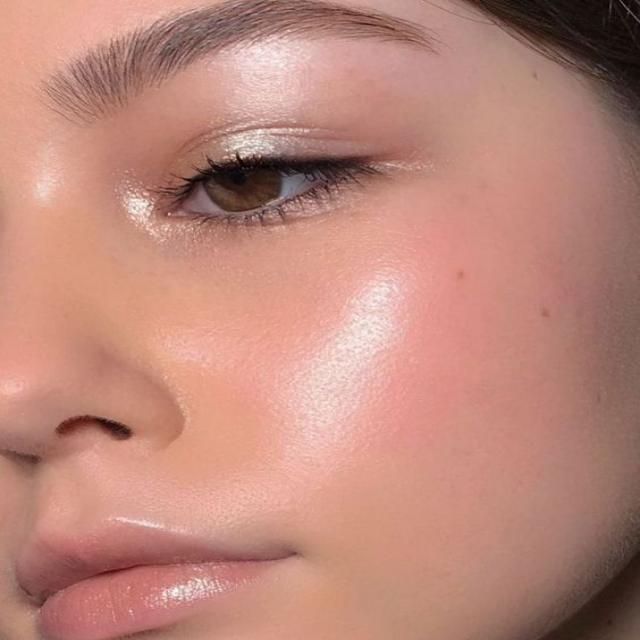Oily-Skin: (322, 278, 436, 447), (72, 453, 274, 532), (21, 153, 107, 220), (228, 44, 346, 90)
